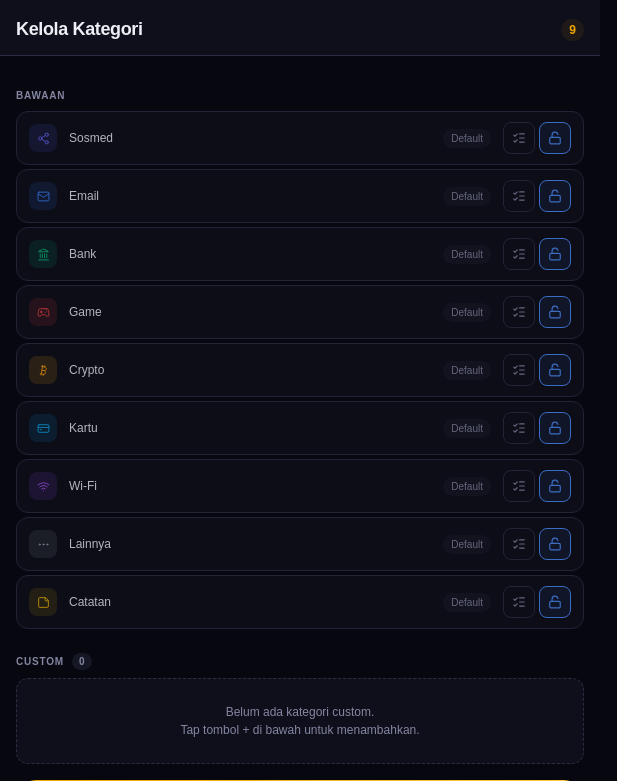
Test case: CategoryManager — Editor Field Kategori (v1.10.0) › menekan "Tambah Field" menambahkan baris input kosong baru
Click the button named "Kelola field Sosmed".
click(519, 138)  # box left=503, top=122, right=535, bottom=154
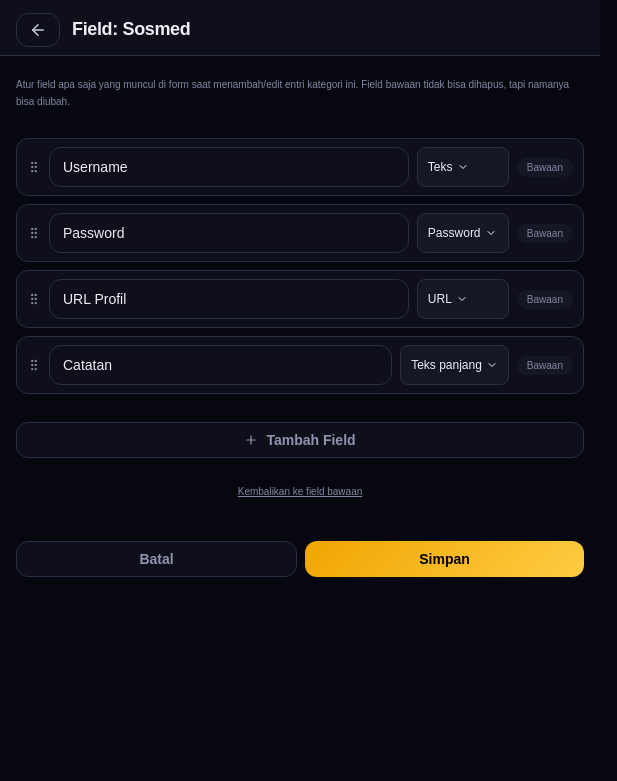
Click the button "Tambah Field".
click(300, 440)  # box left=16, top=422, right=584, bottom=458
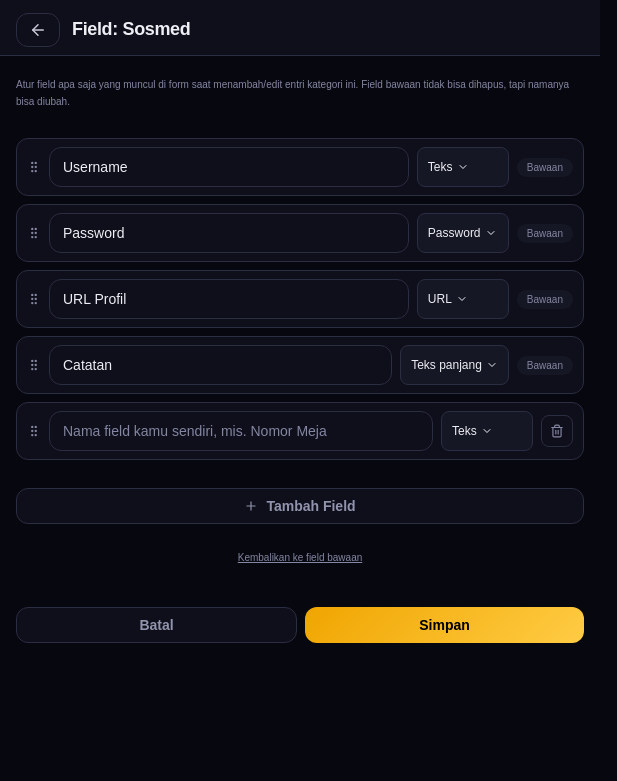
expect the number of fields with placeholder "Nama field kamu sendiri, mis. Nomor Meja" is 5: met, box left=49, top=147, right=409, bottom=187; left=49, top=213, right=409, bottom=253; left=49, top=279, right=409, bottom=319; left=49, top=345, right=392, bottom=385; left=49, top=411, right=433, bottom=451
